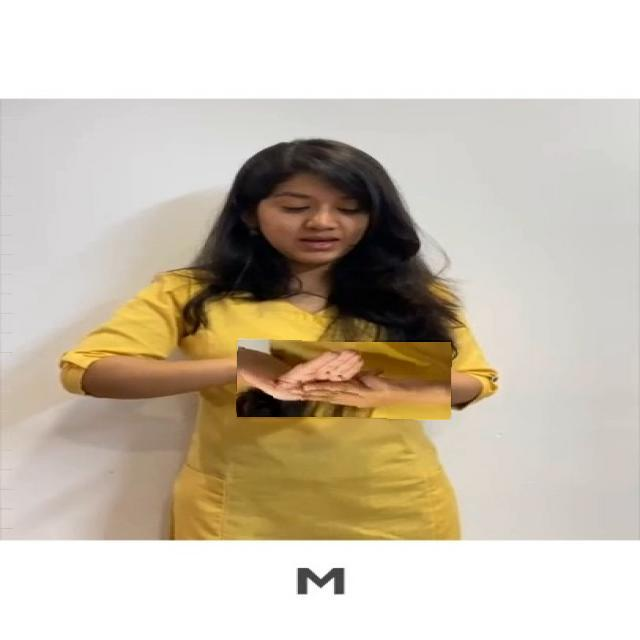M: (236, 340, 452, 419)
